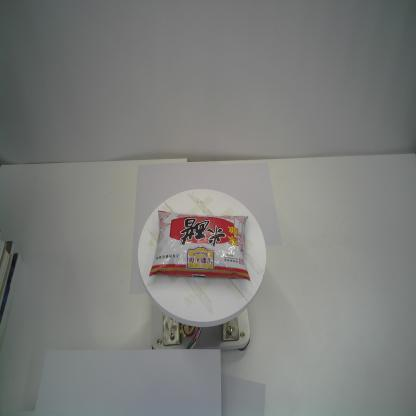Seasoner: (148, 208, 252, 284)
